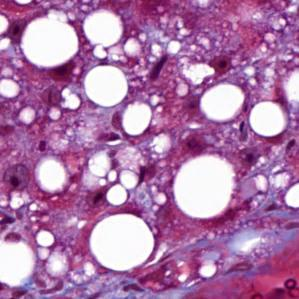inflammation: (145, 49, 171, 84), (136, 163, 151, 190)
